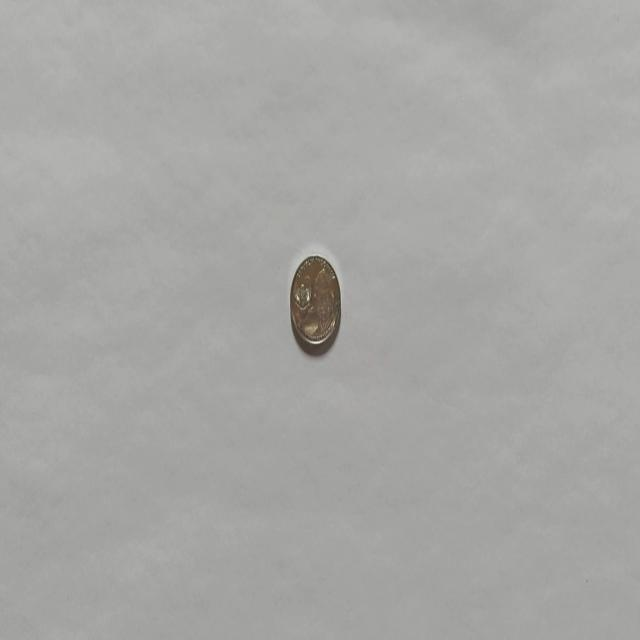dua ratus rupiah: (289, 254, 341, 348)
